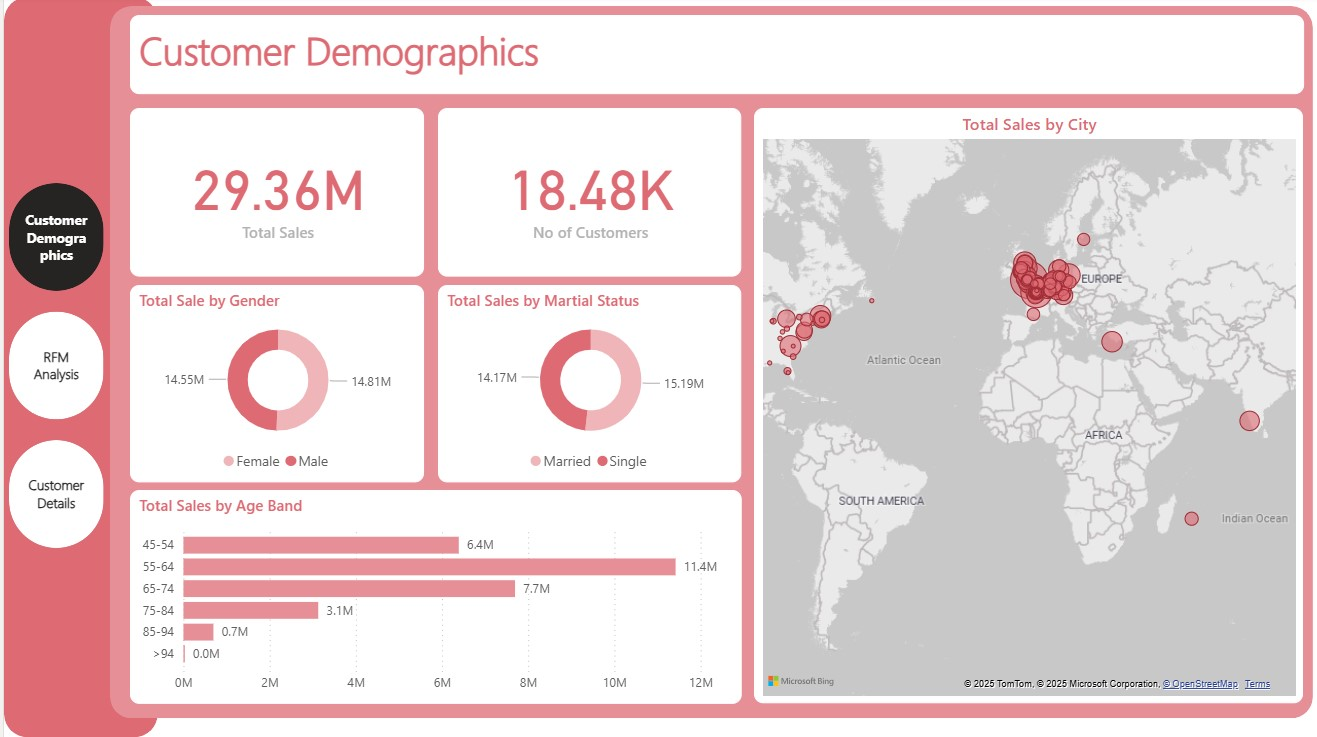

What the dashboard file says about the page in this screenshot:
{"tool":"powerbi","page":{"name":"Customer Demographics","canvas":[1280,720],"ordinal":0},"visuals":[{"type":"shape","box":[0,0,149.6,720.4],"z":0},{"type":"shape","box":[102.8,9.2,1170.1,692.9],"z":1000},{"type":"card","title":"Total Sales","fields":{"Values":["Sum(FactInternetSales.SalesAmount)"]},"box":[122.1,107.9,285.9,163.8],"z":2000},{"type":"card","fields":{"Values":["Count(FactInternetSales.CustomerKey)"]},"box":[422.3,107.9,295.1,163.8],"z":3000},{"type":"donutChart","title":"Total Sale by Gender","fields":{"Category":["DimCustomer.Gender"],"Y":["Sum(FactInternetSales.SalesAmount)"]},"box":[122.1,279.8,285.9,192.3],"z":4000},{"type":"donutChart","title":"Total Sales by Martial Status","fields":{"Y":["Sum(FactInternetSales.SalesAmount)"],"Category":["DimCustomer.MaritalStatus"]},"box":[422.3,279.8,295.1,192.3],"z":5000},{"type":"clusteredBarChart","title":"Total Sales by Age Band","fields":{"Y":["Sum(FactInternetSales.SalesAmount)"],"Category":["Age Sort.Age Band"]},"box":[122.1,479.2,595.2,207.6],"z":6000},{"type":"map","fields":{"Size":["Sum(FactInternetSales.SalesAmount)"],"Category":["DimGeography.City"]},"box":[729.5,107.9,534.2,579],"z":7000},{"type":"textbox","box":[122.1,17.3,1141.6,77.3],"z":8000},{"type":"pageNavigator","box":[5.1,181.1,92.6,357.1],"z":9000}]}

Visuals, with their boxes in screenshot pixels (x1, y1, x2, y2), scaled from the page's 1280x720 canvas onto the 1317x737 screenshot:
shape: bbox=[0, 0, 154, 736]
shape: bbox=[106, 9, 1310, 719]
"Total Sales" card: bbox=[126, 110, 420, 278]
card - Count(FactInternetSales.CustomerKey): bbox=[435, 110, 738, 278]
"Total Sale by Gender" donutChart: bbox=[126, 286, 420, 483]
"Total Sales by Martial Status" donutChart: bbox=[435, 286, 738, 483]
"Total Sales by Age Band" clusteredBarChart: bbox=[126, 491, 738, 703]
map - Sum(FactInternetSales.SalesAmount) x DimGeography.City: bbox=[751, 110, 1300, 703]
textbox: bbox=[126, 18, 1300, 97]
pageNavigator: bbox=[5, 185, 101, 551]
